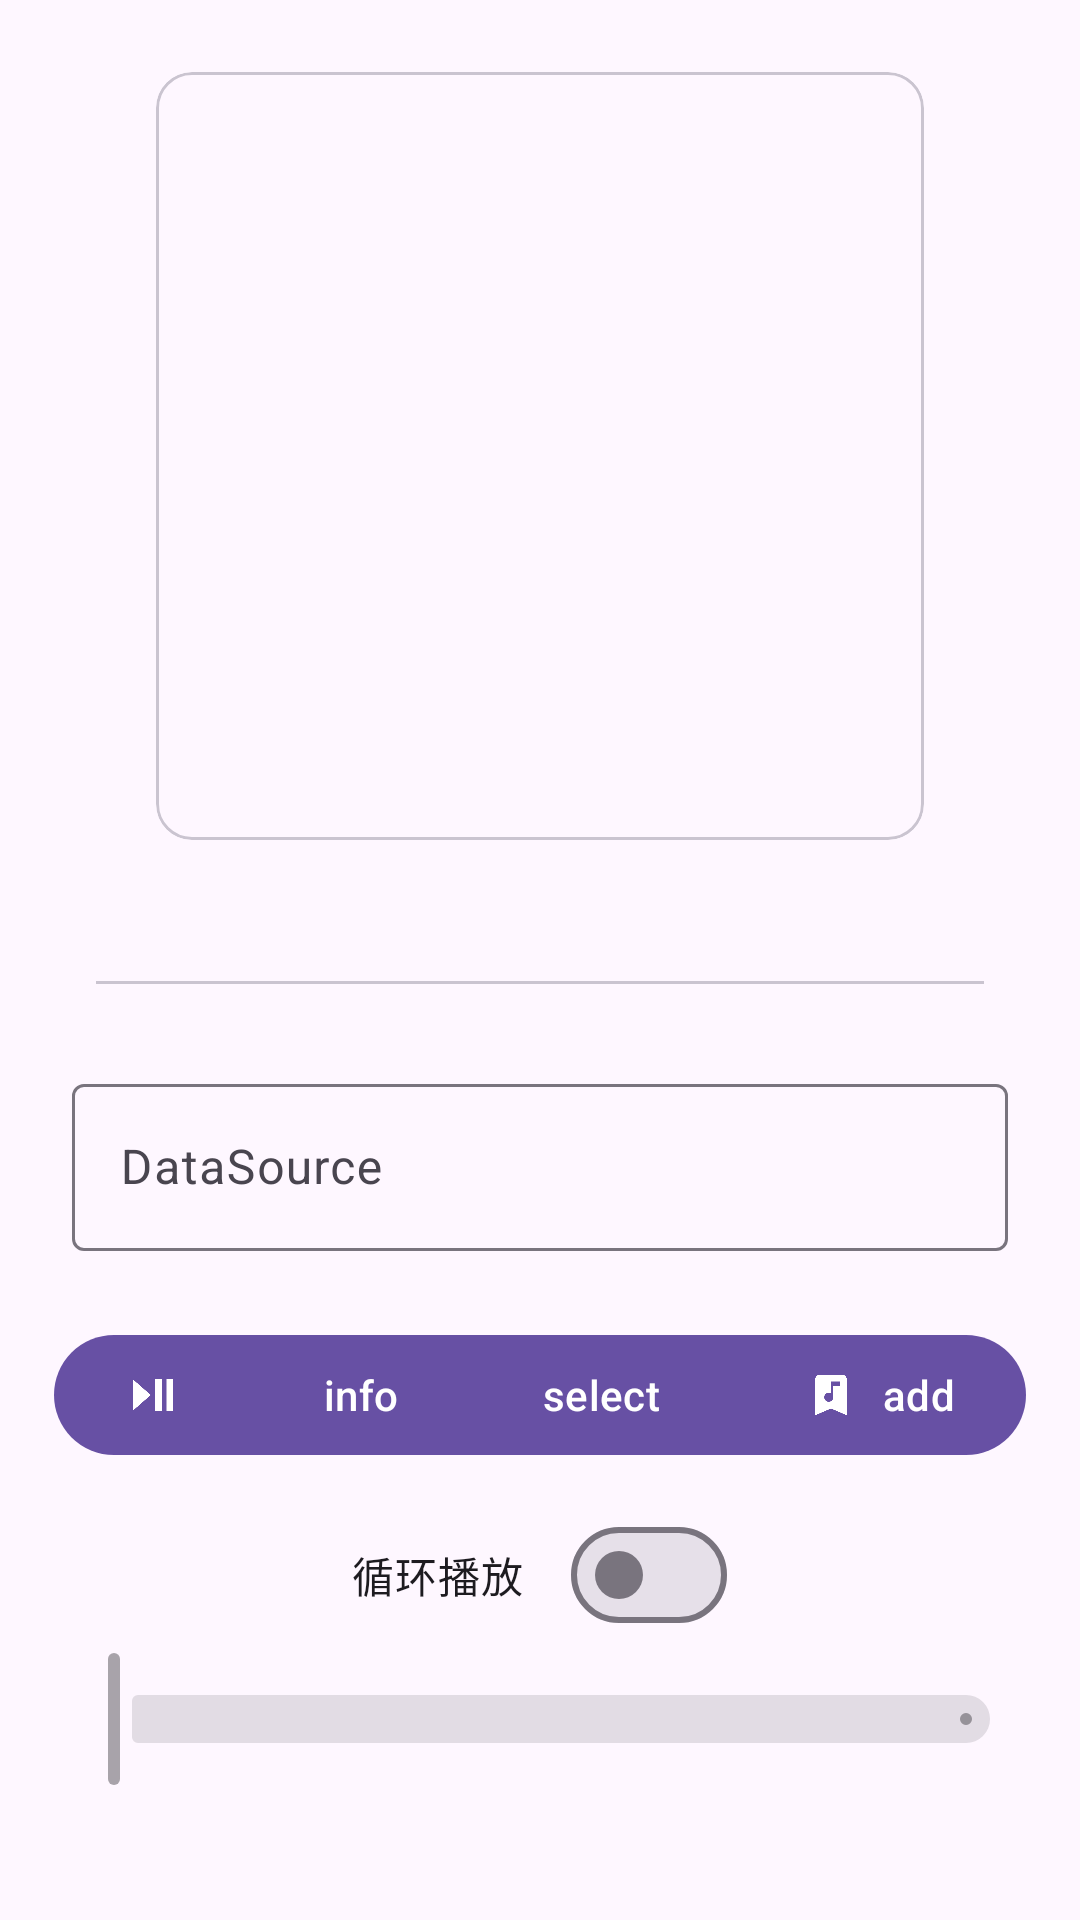

Icon bounding boxes for this 1080*1920 phone screenshot, format (x1, y1, x2, y2):
play pause: (54, 1335, 252, 1455)
